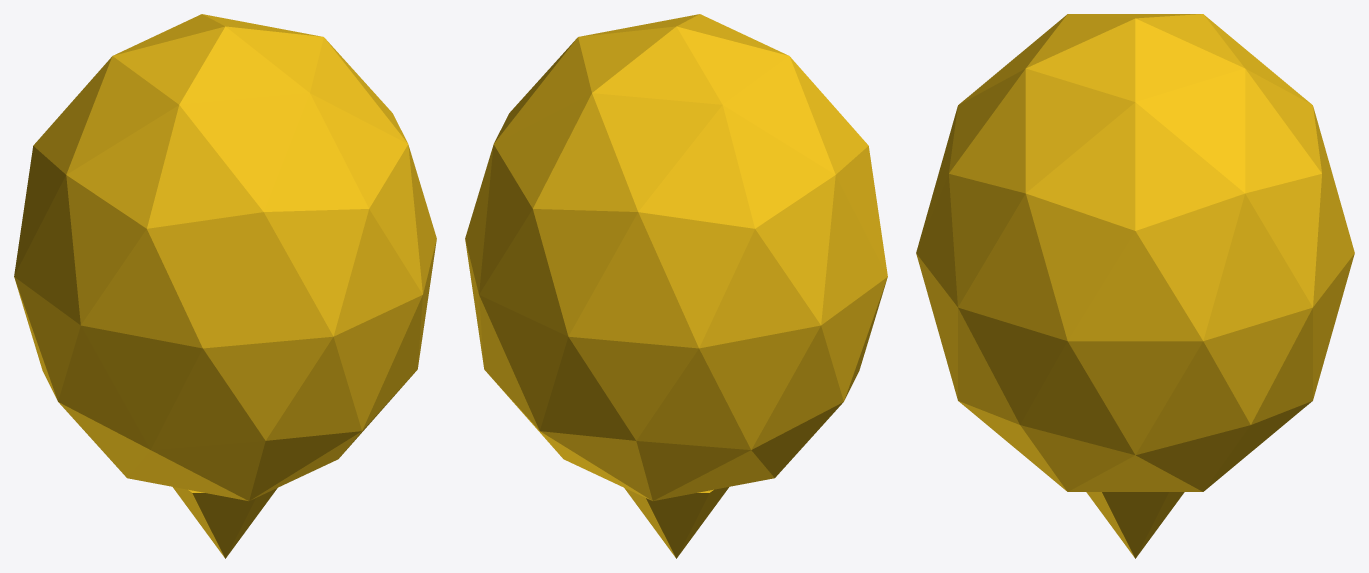
Rendered from balloon_yellow.glb.
3 renders of one model, left to right at view 1: azimuth 30°, elevation 25°; view 2: azimuth 150°, elevation 25°; view 3: azimuth 270°, elevation 25°, orthographic.
Parts seen in each view (by area): view 1: balloon_yellow; view 2: balloon_yellow; view 3: balloon_yellow.
Part boxes in pixels (x1=…): balloon_yellow: x1=14, y1=14, x2=436, y2=558; balloon_yellow: x1=465, y1=14, x2=887, y2=558; balloon_yellow: x1=916, y1=14, x2=1354, y2=558.
Size of the model in its own units: 0.2473 by 0.3534 by 0.26.
